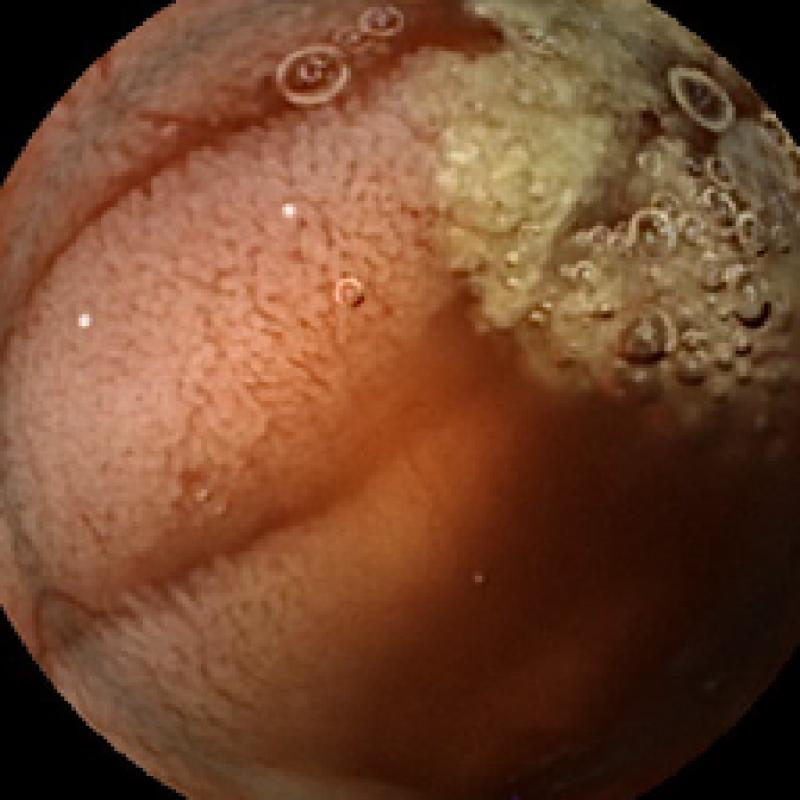bleeding: (36, 0, 518, 271), (461, 508, 797, 788)
